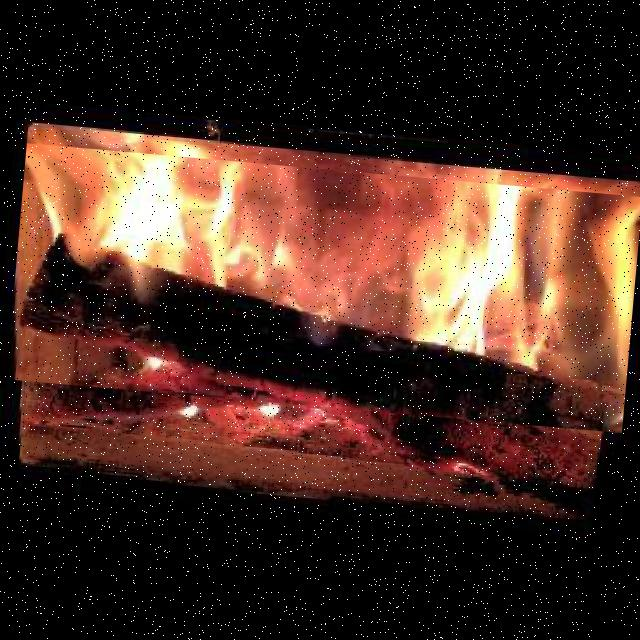fire: (6, 142, 640, 432)
